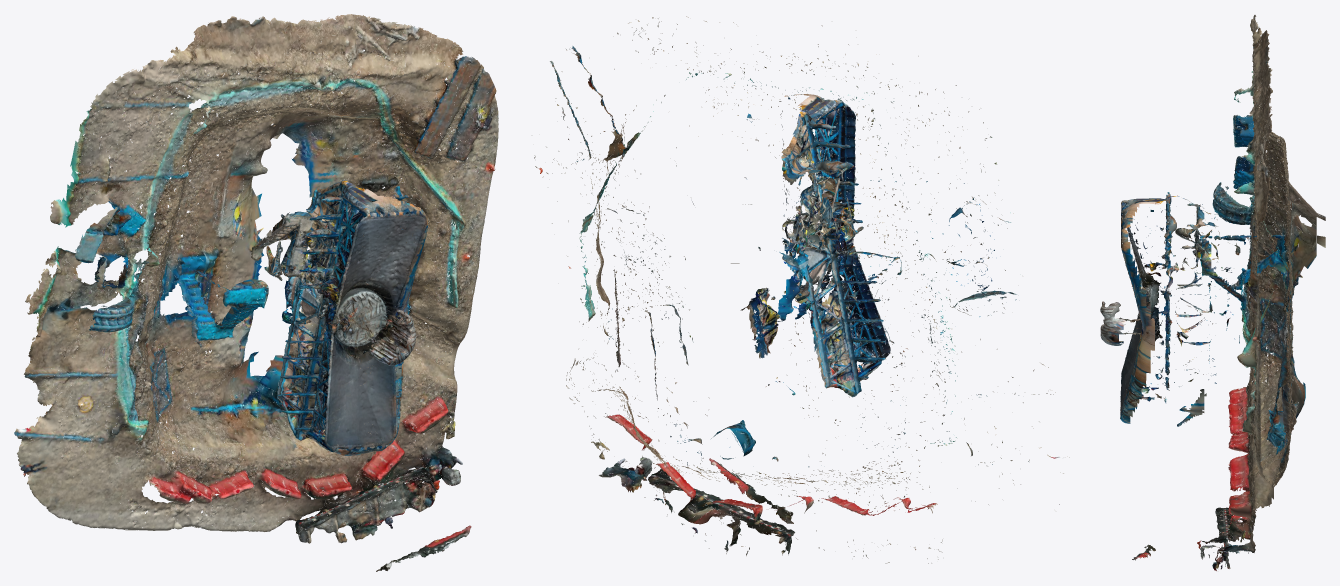
File: formwork.glb
3 renders of one model, left to right at view 1: azimuth 30°, elevation 25°; view 2: azimuth 150°, elevation 25°; view 3: azimuth 270°, elevation 25°, orthographic. The views are drawn at different scales.
Parts seen in each view (by area): view 1: Node; view 2: Node; view 3: Node.
Part boxes in pixels (left/top/right/bottom): Node: left=14, top=14, right=498, bottom=571; Node: left=534, top=16, right=1069, bottom=563; Node: left=1100, top=15, right=1325, bottom=570.
Bounding box in the file's own units: 23.28 × 24.2 × 10.42.
32 materials, 32 textured.
